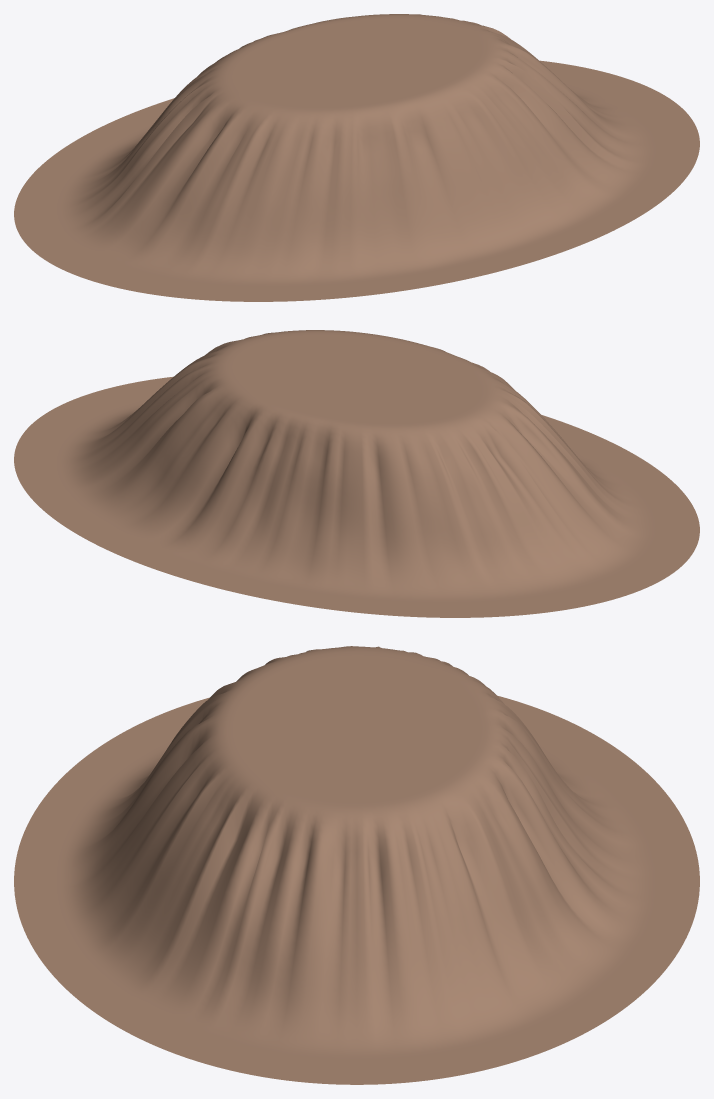
Rendered from red_hill.glb.
3 renders of one model, top to bottom at view 1: azimuth 30°, elevation 25°; view 2: azimuth 150°, elevation 25°; view 3: azimuth 270°, elevation 25°, orthographic. The views are drawn at different scales.
Parts seen in each view (by area): view 1: red_hill; view 2: red_hill; view 3: red_hill.
Boxes of the visible parts, x1,y1,x2,y2 form: red_hill: [14, 14, 699, 301]; red_hill: [14, 330, 699, 617]; red_hill: [14, 646, 699, 1084].
Size of the model in its own units: 264 by 46 by 188.
